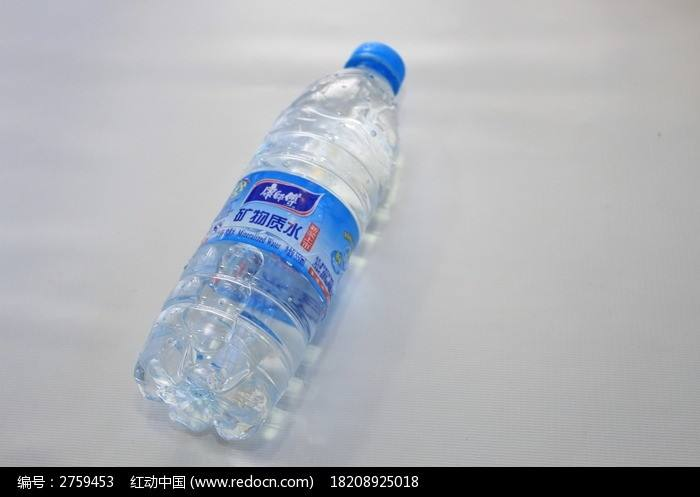amwater: (130, 27, 424, 454)
